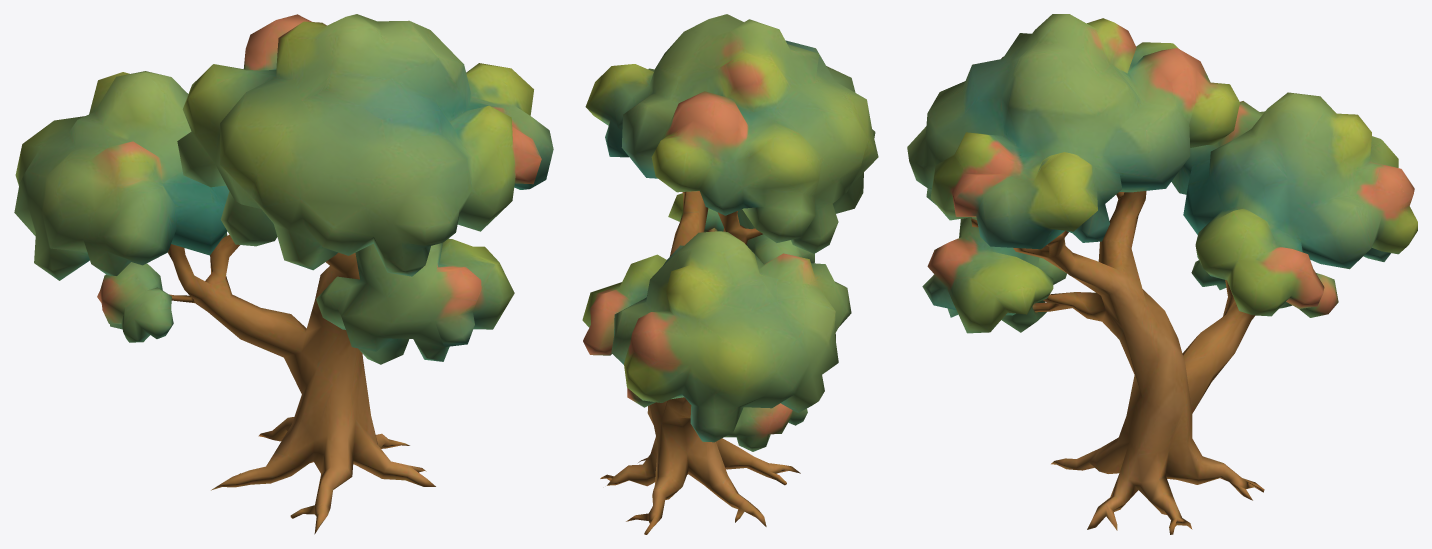
File: e0058452-tree-web.glb
The picture shows the model from 3 angles, left to right: view 1: azimuth 30°, elevation 25°; view 2: azimuth 150°, elevation 25°; view 3: azimuth 270°, elevation 25°; orthographic projection. The views are drawn at different scales.
Parts seen in each view (by area): view 1: tripo_node_b65f6a83-d274-41e0-ac2c-29b88fbe9ac4; view 2: tripo_node_b65f6a83-d274-41e0-ac2c-29b88fbe9ac4; view 3: tripo_node_b65f6a83-d274-41e0-ac2c-29b88fbe9ac4.
Boxes of the visible parts, x1,y1,x2,y2 form: tripo_node_b65f6a83-d274-41e0-ac2c-29b88fbe9ac4: (14,14,553,534); tripo_node_b65f6a83-d274-41e0-ac2c-29b88fbe9ac4: (582,14,878,534); tripo_node_b65f6a83-d274-41e0-ac2c-29b88fbe9ac4: (907,14,1417,534).
Bounding box in the file's own units: 0.7871 × 0.998 × 0.9824.
1 material, 1 textured.
